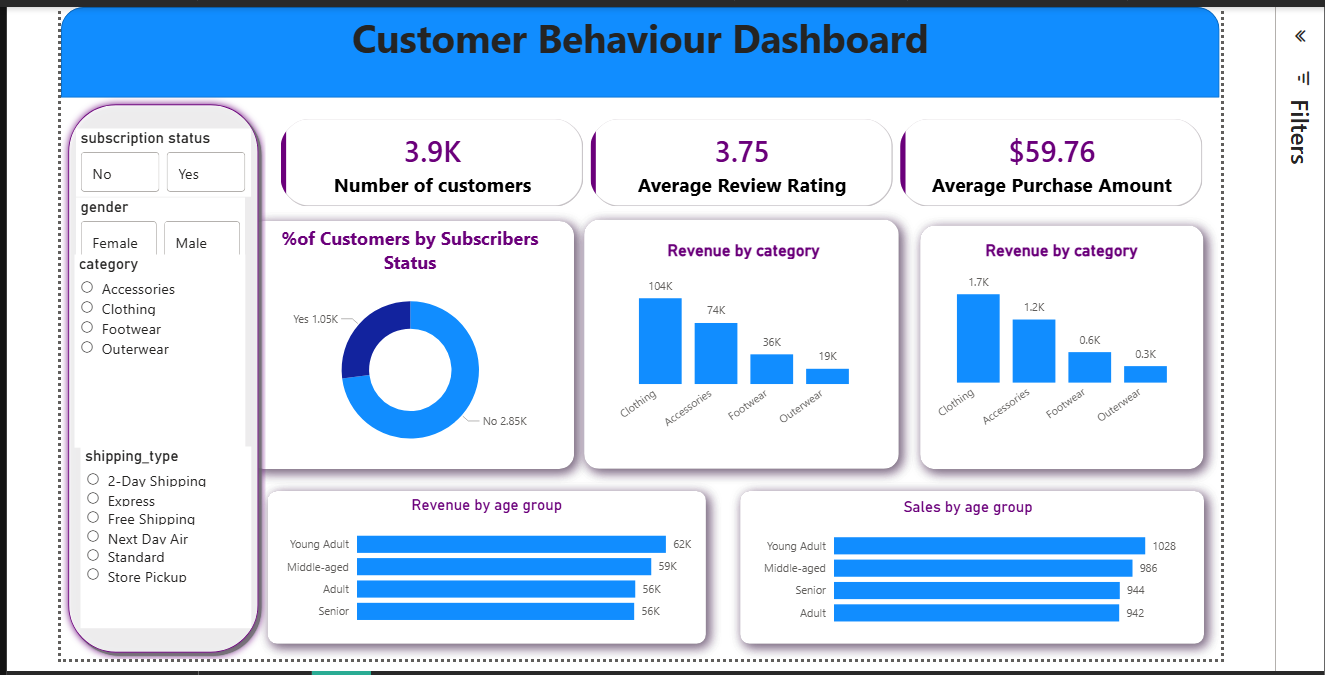

What the dashboard file says about the page in this screenshot:
{"tool":"powerbi","page":{"name":"Page 1","canvas":[1280,720],"ordinal":0},"visuals":[{"type":"cardVisual","fields":{"Data":["Measure.Number of customers","Measure.Average Review Rating","Measure.Average Purchase Amount"]},"box":[226.1,106.7,1053.3,131.9],"z":0},{"type":"shape","box":[0,0,1279.4,100.2],"z":1000},{"type":"textbox","box":[0,0,1279.4,99.6],"z":2000},{"type":"shape","box":[188.4,218.2,395.6,309.3],"z":3000},{"type":"donutChart","title":"%of Customers by Subscribers Status","fields":{"Category":["customer_behaviour customer.subscription_status"],"Y":["CountNonNull(customer_behaviour customer.customer_id)"]},"box":[210.4,241.7,350.1,263.7],"z":4000},{"type":"shape","box":[560.4,216.6,383,310.8],"z":5000},{"type":"shape","box":[930.9,222.9,348.5,304.5],"z":6000},{"type":"clusteredColumnChart","title":"Revenue by category","fields":{"Category":["customer_behaviour customer.category"],"Y":["Sum(customer_behaviour customer.purchase_amount)"]},"box":[605.9,259,295.1,227.6],"z":7000},{"type":"clusteredColumnChart","title":"Revenue by category","fields":{"Category":["customer_behaviour customer.category"],"Y":["CountNonNull(customer_behaviour customer.customer_id)"]},"box":[957.6,259,295.1,226.1],"z":8000},{"type":"shape","box":[0,98.9,226.1,621.6],"z":9000},{"type":"advancedSlicerVisual","fields":{"Values":["customer_behaviour customer.subscription_status"]},"box":[17.3,135,193.1,75.4],"z":10000},{"type":"advancedSlicerVisual","fields":{"Values":["customer_behaviour customer.gender"]},"box":[17.3,210.4,186.8,73.8],"z":11000},{"type":"shape","box":[210.4,516.5,519.6,204.1],"z":12000},{"type":"shape","box":[731.5,516.5,547.9,204.1],"z":13000},{"type":"clusteredBarChart","title":"Revenue by age group","fields":{"Category":["customer_behaviour customer.age_group"],"Y":["Sum(customer_behaviour customer.purchase_amount)"]},"box":[238.6,540,463.1,152.3],"z":14000},{"type":"clusteredBarChart","title":"Sales by age group","fields":{"Category":["customer_behaviour customer.age_group"],"Y":["CountNonNull(customer_behaviour customer.customer_id)"]},"box":[766.1,541.6,472.5,152.3],"z":15000},{"type":"listSlicer","fields":{"Values":["customer_behaviour customer.category"]},"box":[15.7,273.1,188.4,213.5],"z":16000},{"type":"listSlicer","fields":{"Values":["customer_behaviour customer.shipping_type"]},"box":[22,485.1,188.4,200.9],"z":17000}]}

Visuals, with their boxes on the page's 1280x720 design canvas (x1, y1, x2, y2). These are canvas units, not pixel positions in the 1325x675 screenshot, which may show the page scaled, cropped or inside an application window:
cardVisual - Measure.Number of customers x Measure.Average Review Rating: [226,107,1279,239]
shape: [0,0,1279,100]
textbox: [0,0,1279,100]
shape: [188,218,584,528]
"%of Customers by Subscribers Status" donutChart: [210,242,560,505]
shape: [560,217,943,527]
shape: [931,223,1279,527]
"Revenue by category" clusteredColumnChart: [606,259,901,487]
"Revenue by category" clusteredColumnChart: [958,259,1253,485]
shape: [0,99,226,720]
advancedSlicerVisual - customer_behaviour customer.subscription_status: [17,135,210,210]
advancedSlicerVisual - customer_behaviour customer.gender: [17,210,204,284]
shape: [210,516,730,721]
shape: [732,516,1279,721]
"Revenue by age group" clusteredBarChart: [239,540,702,692]
"Sales by age group" clusteredBarChart: [766,542,1239,694]
listSlicer - customer_behaviour customer.category: [16,273,204,487]
listSlicer - customer_behaviour customer.shipping_type: [22,485,210,686]
